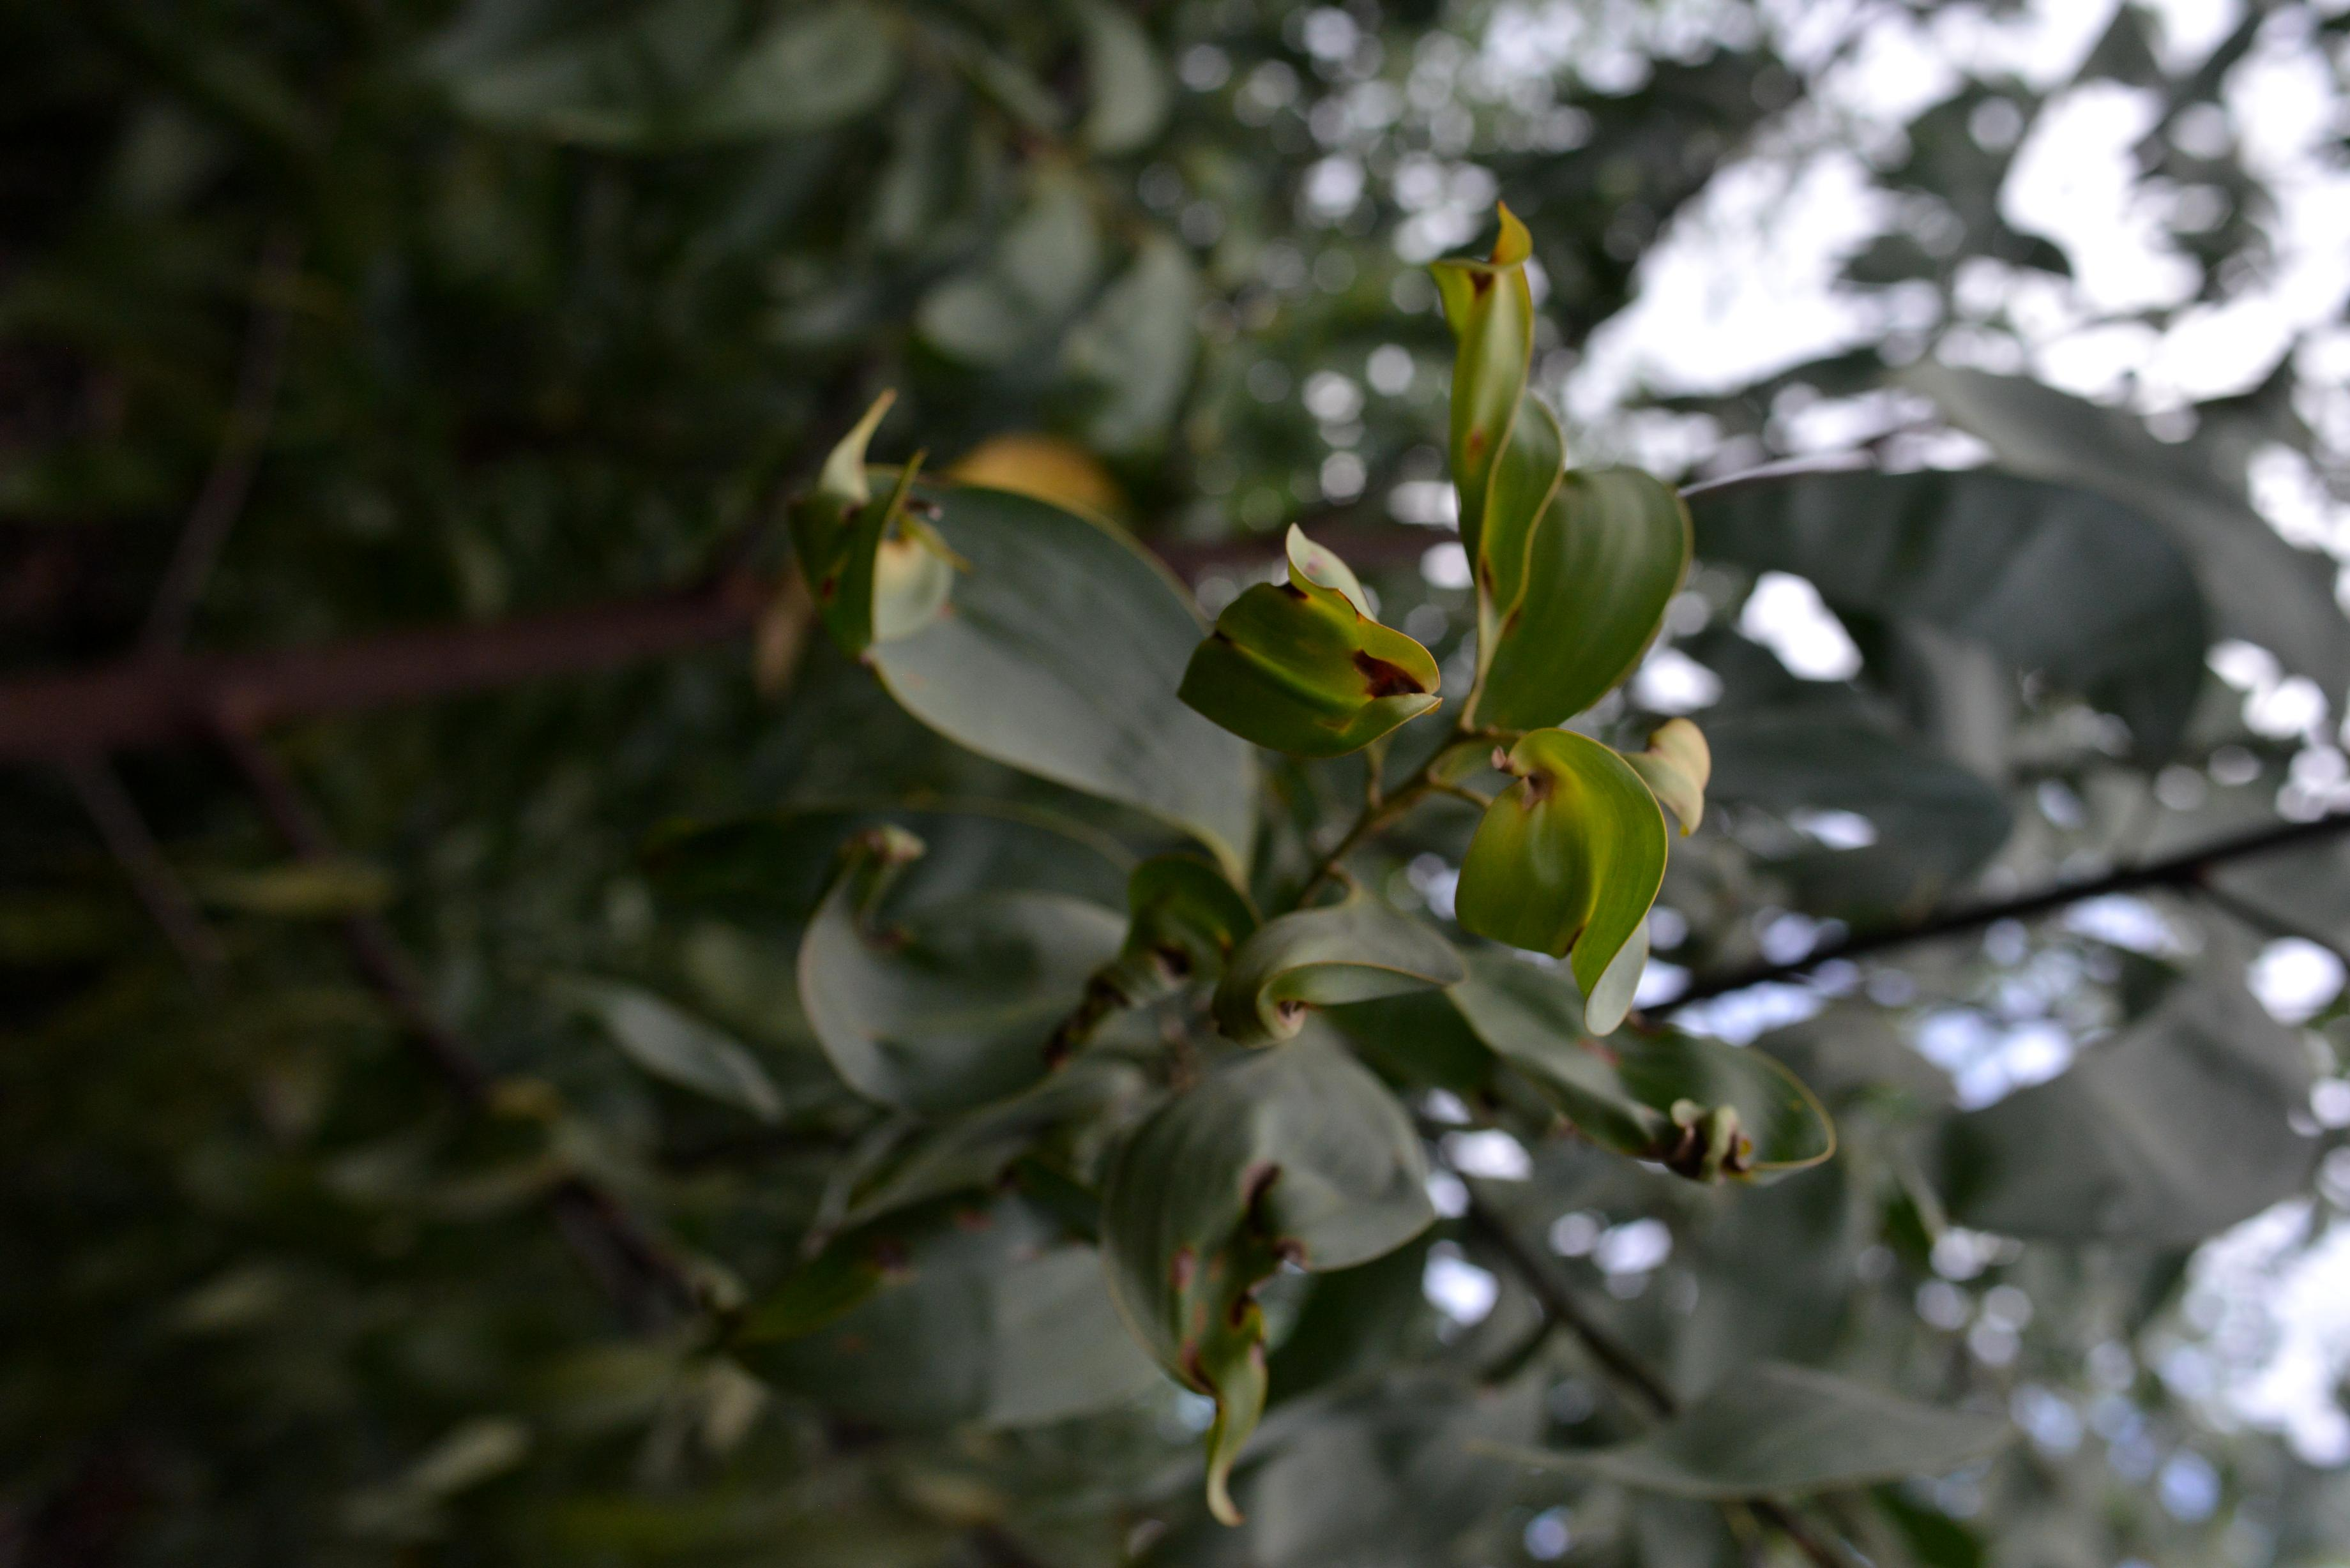Pasalora: (773, 387, 1256, 877), (1101, 1011, 1442, 1521), (801, 833, 1265, 1115), (681, 1106, 1060, 1375), (1458, 945, 1839, 1188), (1424, 203, 1568, 684), (1454, 724, 1668, 1029), (1174, 523, 1447, 756), (1213, 885, 1466, 1062), (1629, 716, 1717, 833)
